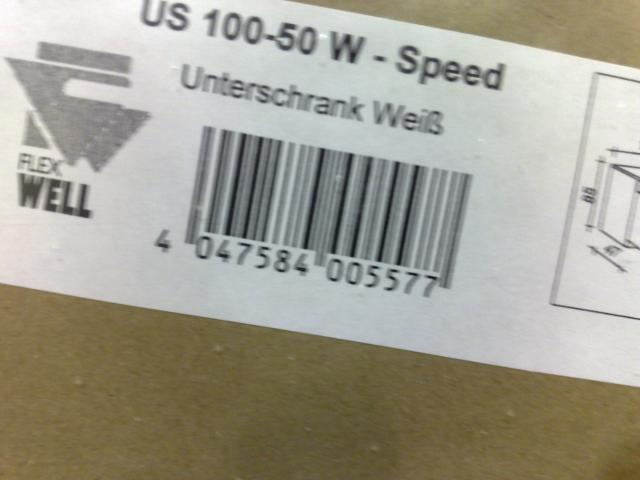Barcode: (150, 119, 485, 310)
